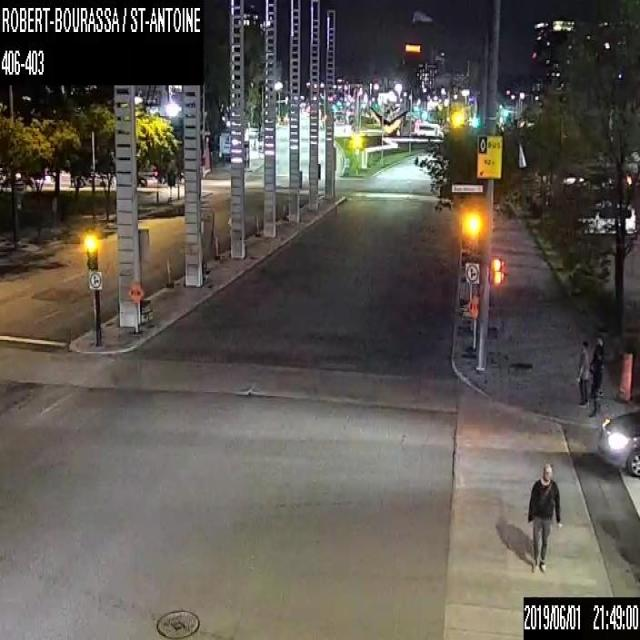construction: (138, 228, 152, 322), (198, 210, 214, 282), (615, 348, 632, 404), (463, 294, 479, 349), (126, 281, 142, 331)
pedestrian: (526, 460, 561, 573), (574, 339, 588, 404), (588, 352, 602, 417), (589, 337, 603, 368)
vehicle: (596, 406, 639, 478), (136, 174, 147, 186)
